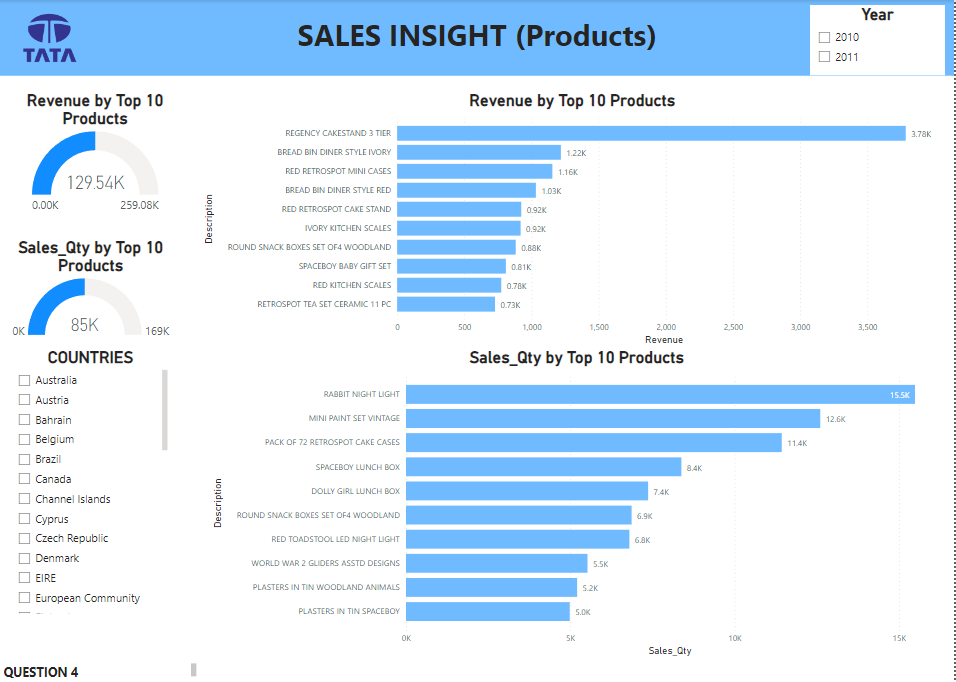

Layout of this report page (visuals, bound fields, positions):
{"tool":"powerbi","page":{"name":"Question 4","canvas":[1400,1000],"ordinal":3},"visuals":[{"type":"slicer","title":"COUNTRIES","fields":{"Values":["Online Retail.Country"]},"box":[15.1,510.8,236.1,393.5],"z":1000},{"type":"textbox","box":[0,0,1400,110.5],"z":2000},{"type":"clusteredBarChart","title":"Revenue by Top 10 Products","fields":{"Category":["Online Retail.Description"],"Y":["Base Measure.Revenue"]},"box":[293.1,134,1091.9,376.8],"z":3000},{"type":"clusteredBarChart","title":"Sales_Qty by Top 10 Products","fields":{"Category":["Online Retail.Description"],"Y":["Base Measure.Sales_Qty"]},"box":[306.5,510.8,1078.5,457.2],"z":4000},{"type":"textbox","box":[0,967.9,293.1,31.8],"z":5000},{"type":"gauge","title":"Sales_Qty by Top 10 Products","fields":{"Y":["Base Measure.Sales_Qty"]},"box":[1.7,348.3,262.9,152.4],"z":7000},{"type":"slicer","title":"Year","fields":{"Values":["Online Retail.Year"]},"box":[1187.3,6.7,197.6,103.8],"z":8000},{"type":"gauge","title":"Revenue by Top 10 Products","fields":{"Y":["Base Measure.Revenue"]},"box":[15.1,134,249.5,187.6],"z":8001}]}

Visuals, with their boxes in screenshot pixels (x1, y1, x2, y2), scaled from the page's 1400x1000 canvas onto the 956x682 screenshot:
"COUNTRIES" slicer: crop(10, 348, 172, 617)
textbox: crop(0, 0, 955, 75)
"Revenue by Top 10 Products" clusteredBarChart: crop(200, 91, 946, 348)
"Sales_Qty by Top 10 Products" clusteredBarChart: crop(209, 348, 946, 660)
textbox: crop(0, 660, 200, 681)
"Sales_Qty by Top 10 Products" gauge: crop(1, 238, 181, 341)
"Year" slicer: crop(811, 5, 946, 75)
"Revenue by Top 10 Products" gauge: crop(10, 91, 181, 219)
